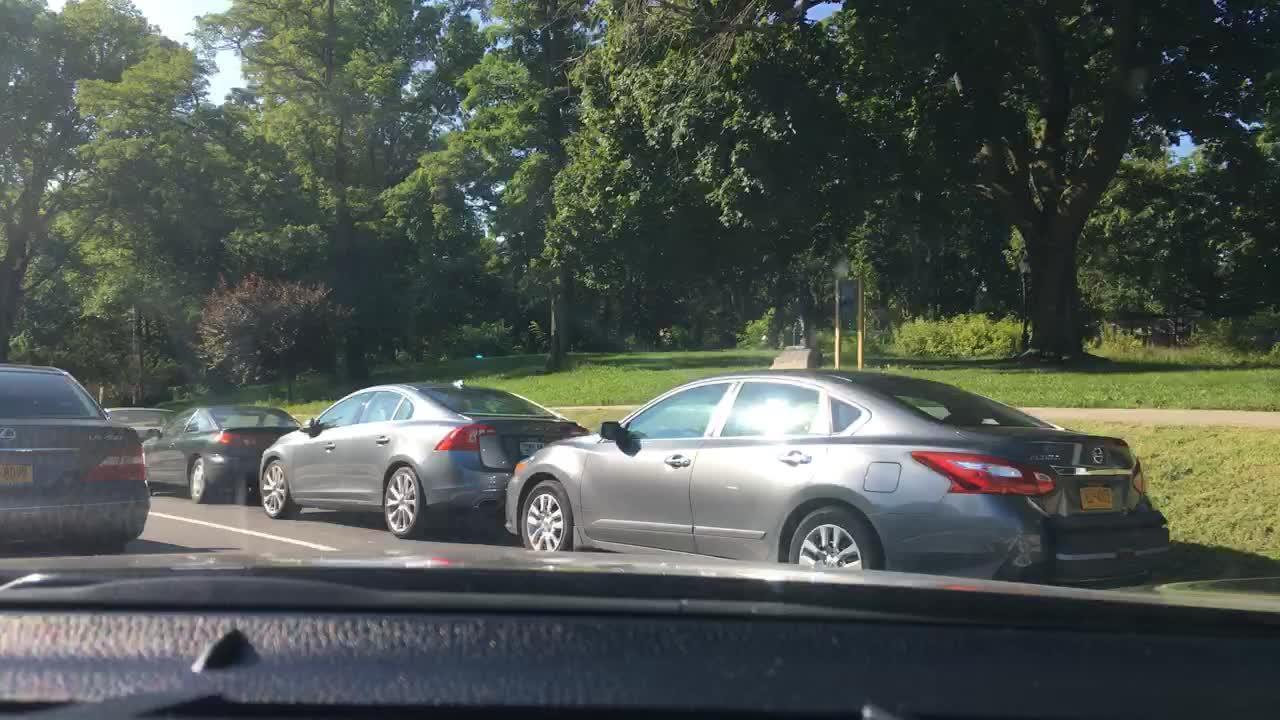Nissan: (1087, 441, 1111, 468)
lexus: (0, 423, 21, 448)
